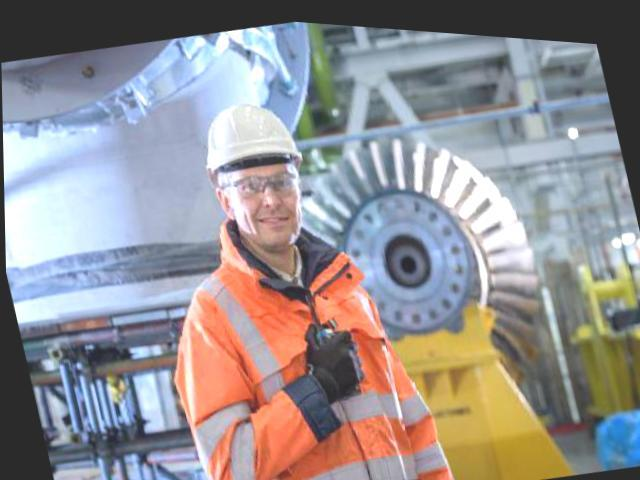Hand-in-Glove: (294, 310, 368, 406)
